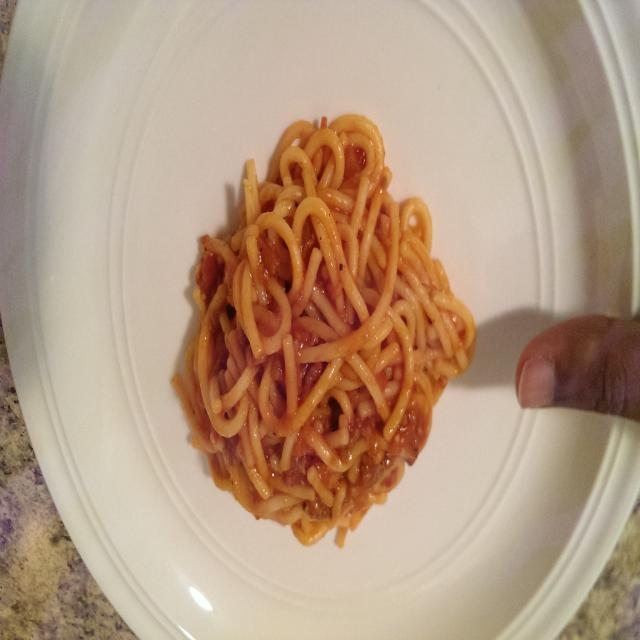Pasta: (144, 105, 487, 579)
